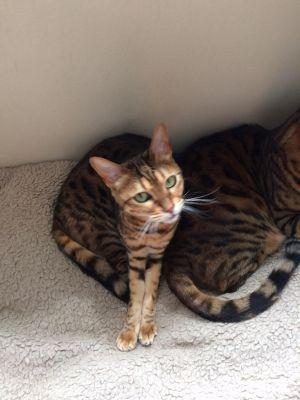bengal: (85, 121, 205, 231)
